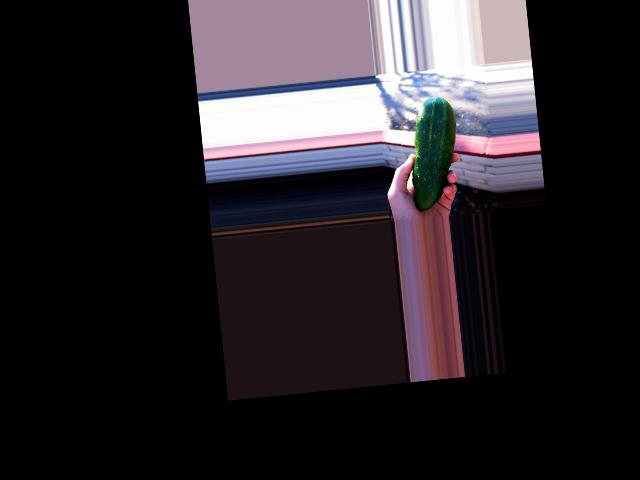cucumber: (405, 95, 464, 211)
